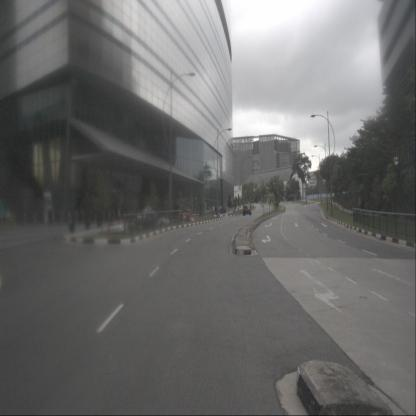cone: (178, 214, 181, 223), (194, 215, 196, 222)
